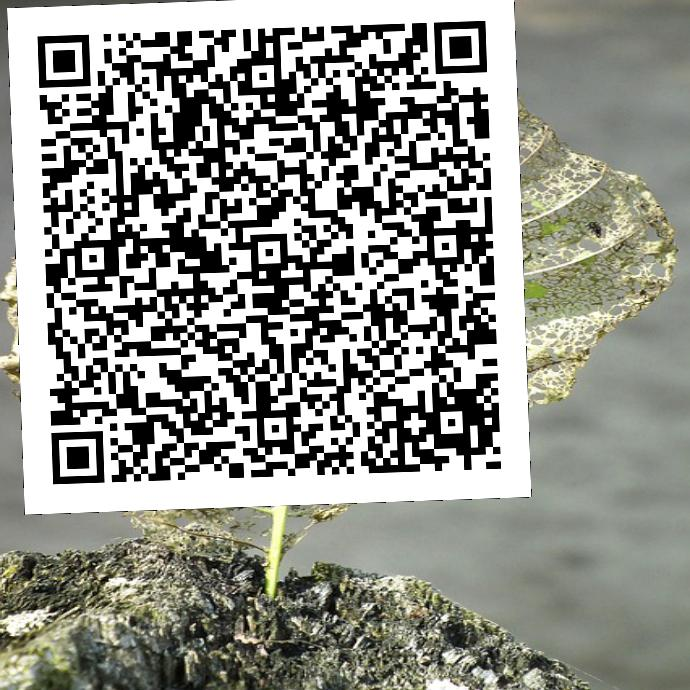qr_code: (7, 0, 531, 519)
